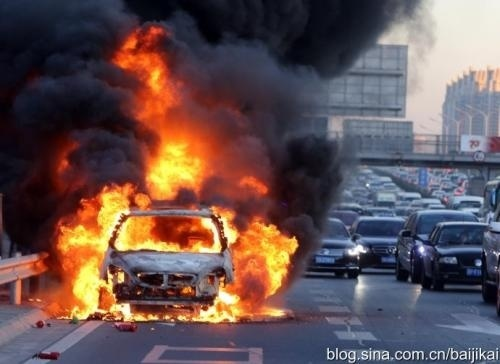fire: (28, 37, 305, 334)
